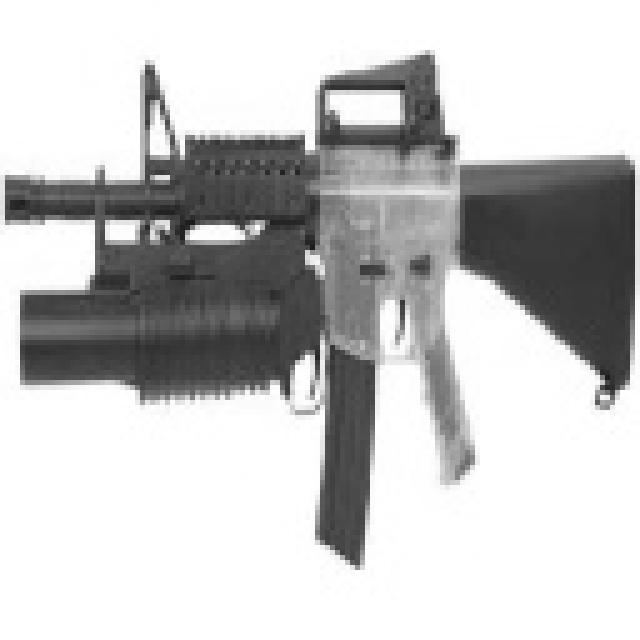Rifle: (0, 17, 640, 596)
